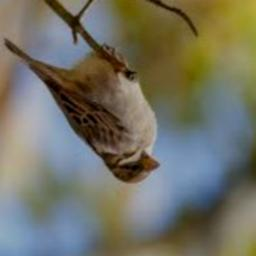Sparrow: (4, 35, 161, 185)
